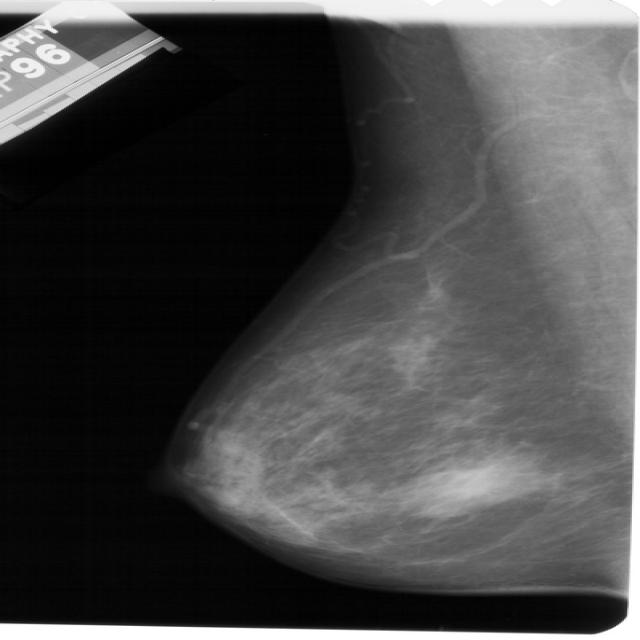tumour: (412, 461, 533, 507)
